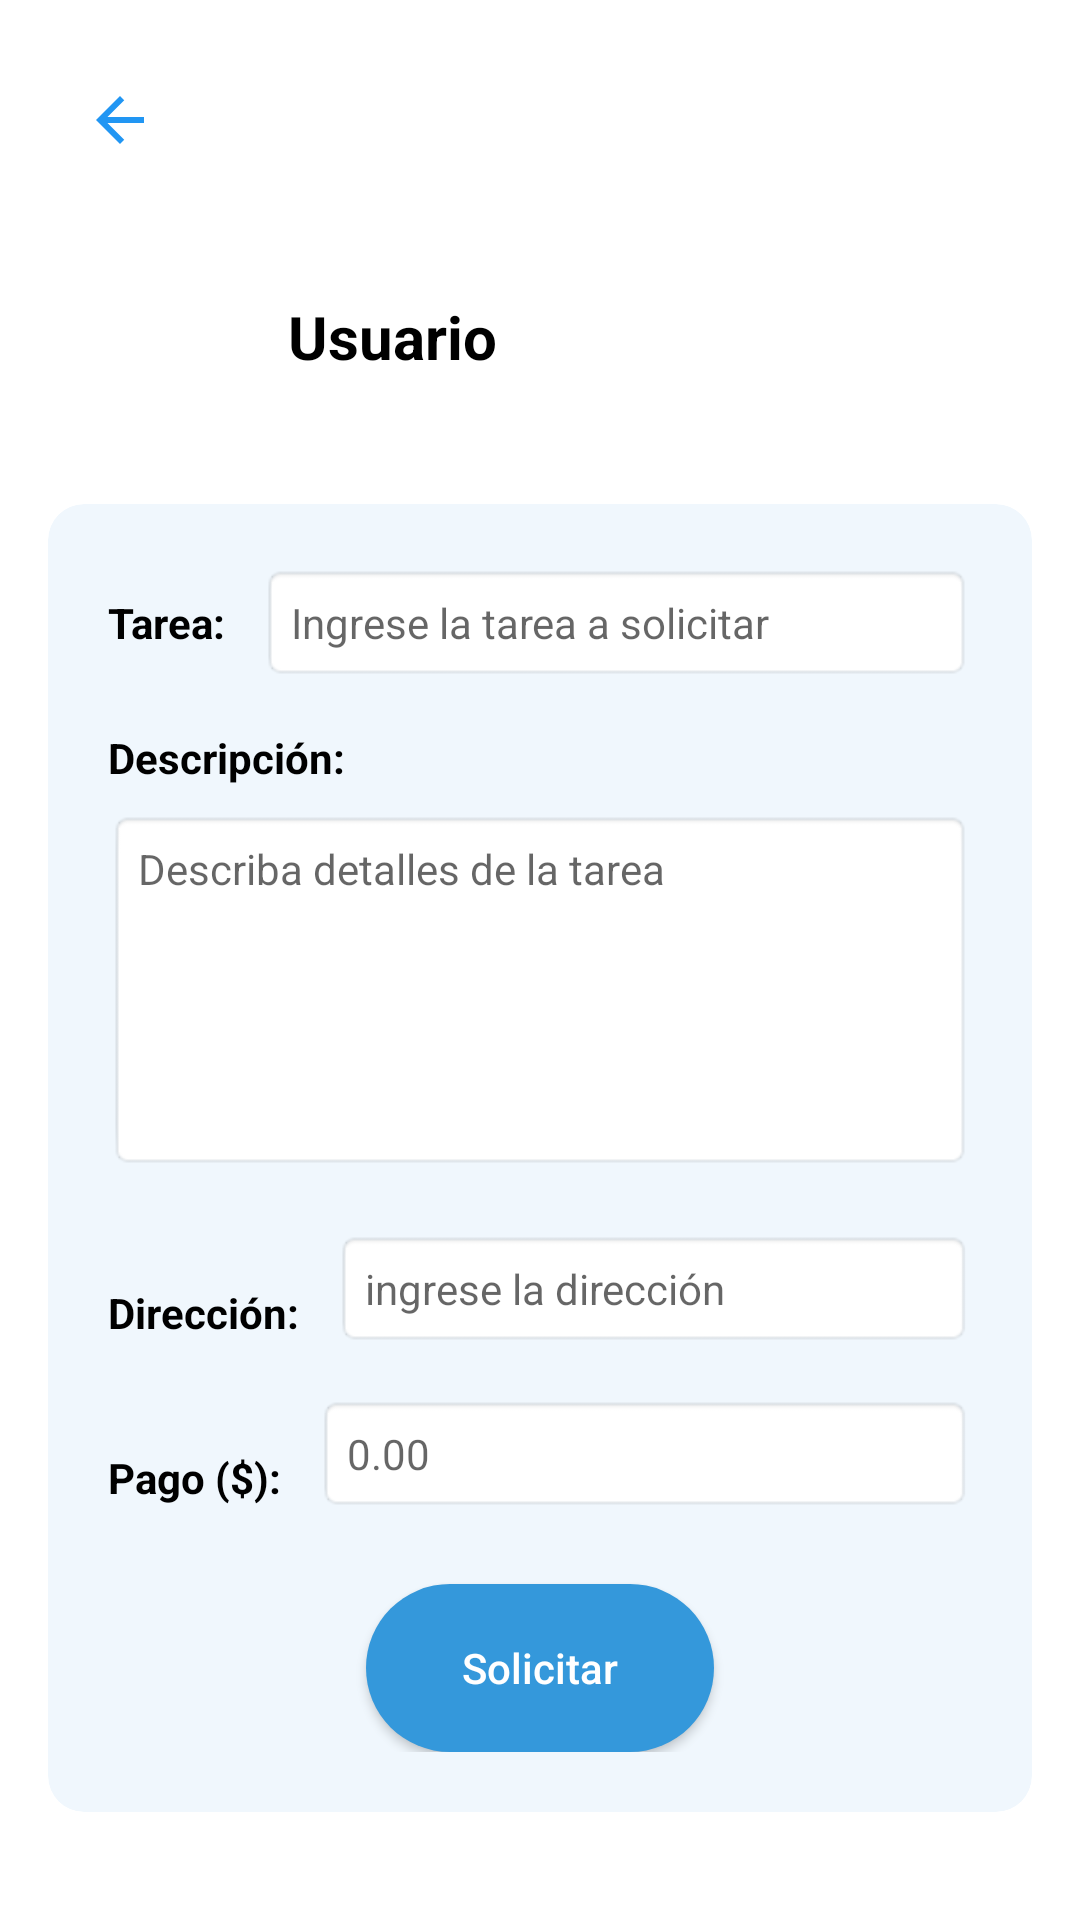

Icons on this 1080 × 1920 Android screen, each with its box as rect(x1, y1, x2, y2):
Atrás: rect(96, 96, 144, 144)
